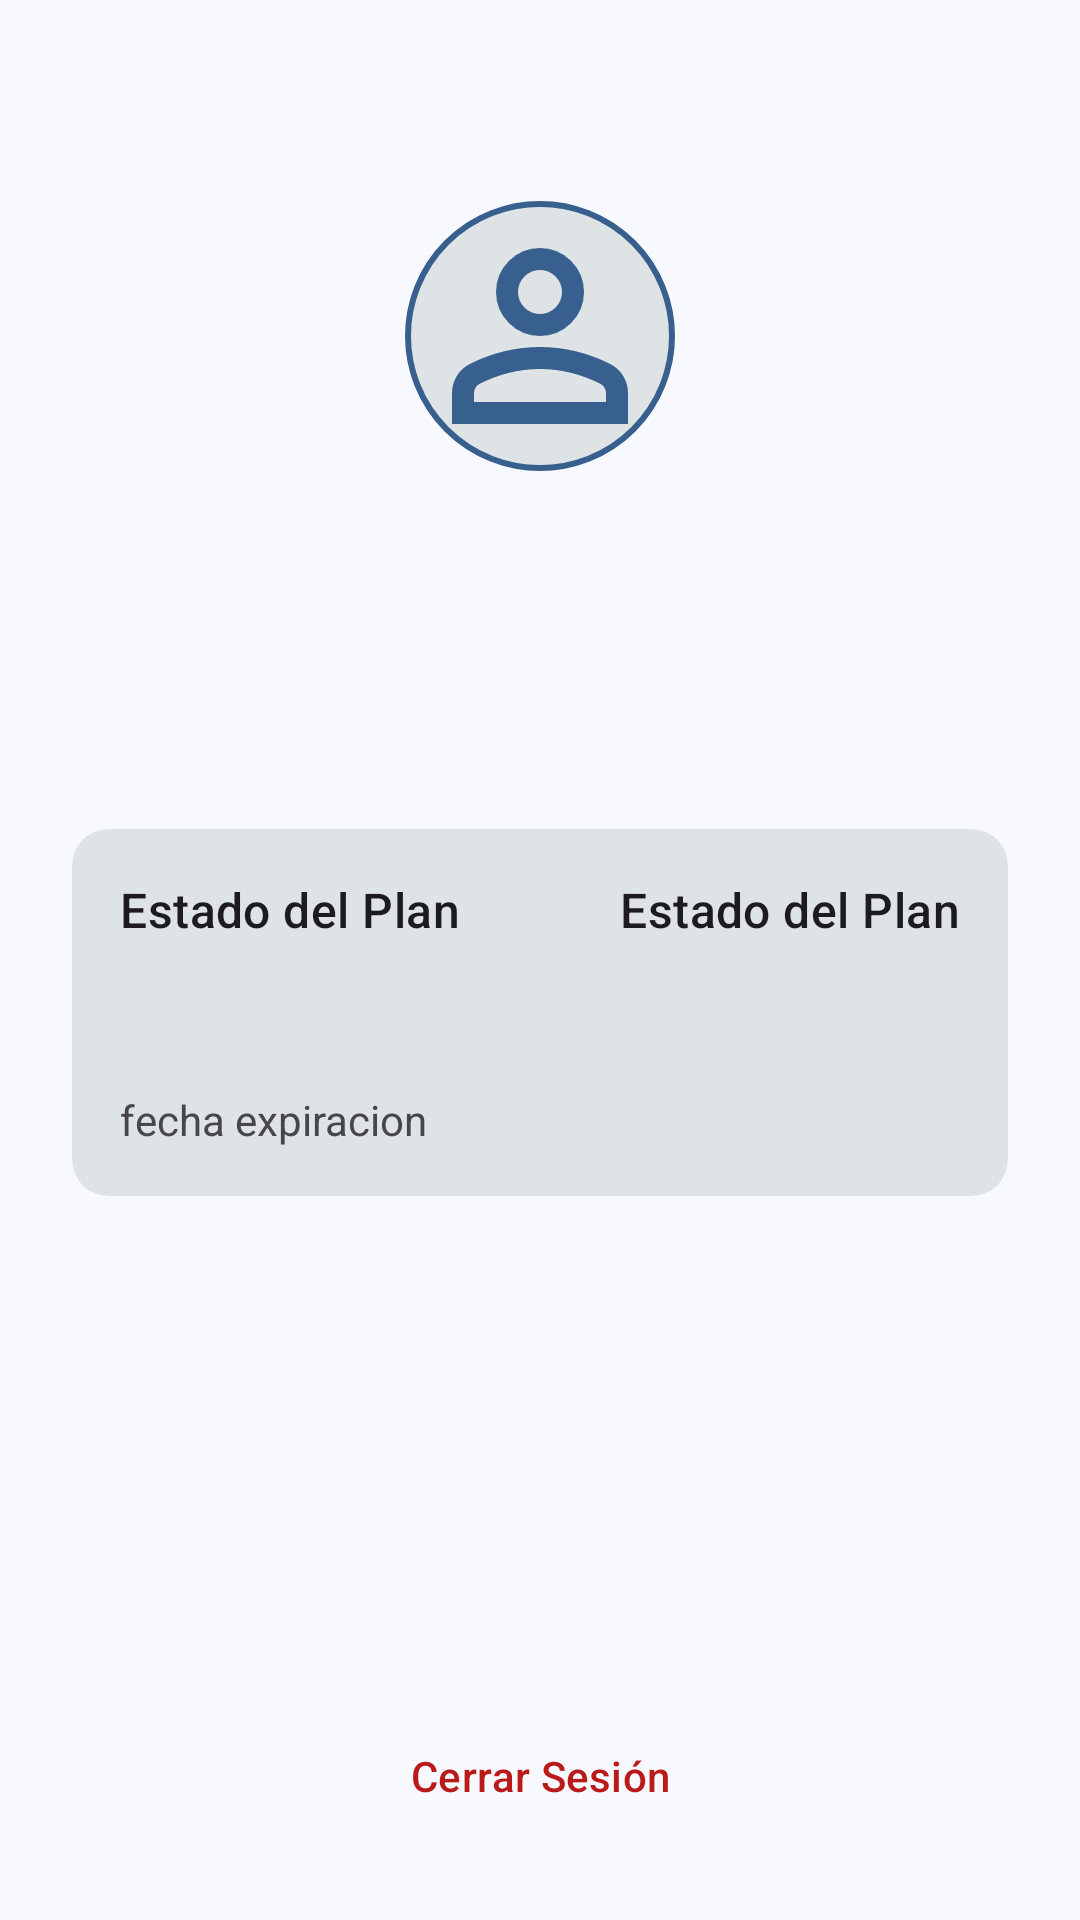

Screen size 1080*1920. Icon name, then its box in pixels as (x1, y1, x2, y2):
person: (405, 201, 675, 471)
